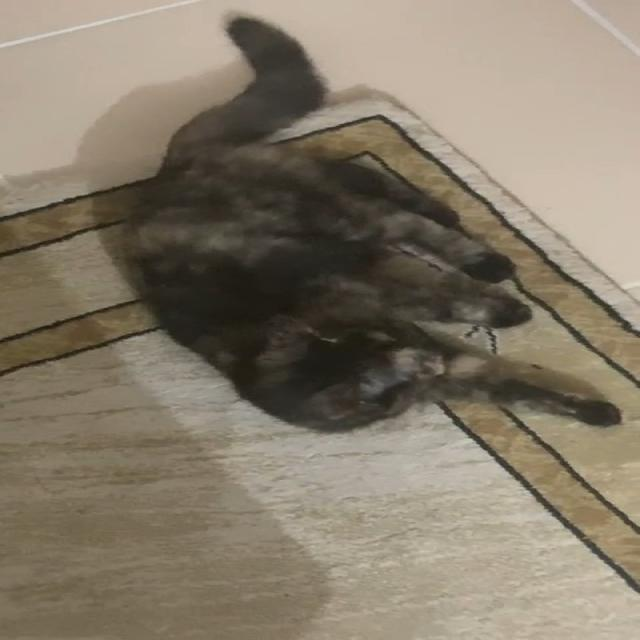authorized: (112, 11, 623, 434)
